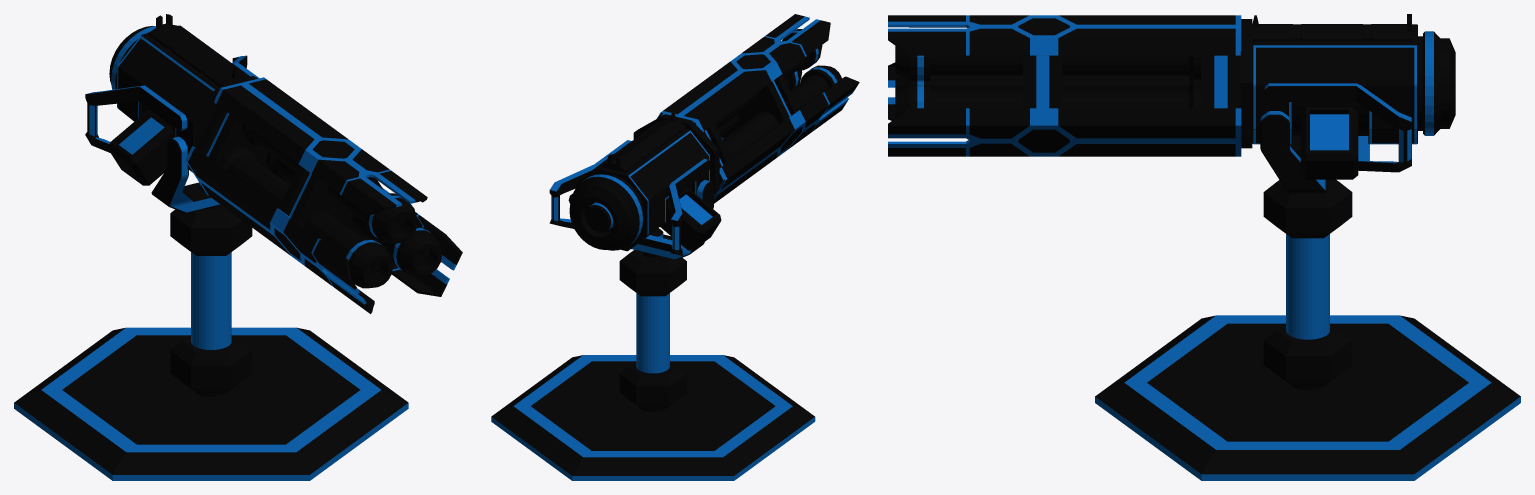
Rendered from Gun 1.fbx.
3 views of the same model, side by side, from view 1: azimuth 30°, elevation 25°; view 2: azimuth 150°, elevation 25°; view 3: azimuth 270°, elevation 25° (orthographic). The views are drawn at different scales.
Visible parts, largest first — view 1: Cylinder.002, Cylinder.001, Cylinder.003; view 2: Cylinder.002, Cylinder.001, Cylinder.003; view 3: Cylinder.002, Cylinder.001, Cylinder.003.
Boxes of the visible parts, left/top/right/bottom form: Cylinder.002: left=14, top=136, right=408, bottom=480; Cylinder.001: left=185, top=77, right=462, bottom=313; Cylinder.003: left=85, top=14, right=259, bottom=185; Cylinder.002: left=491, top=180, right=815, bottom=480; Cylinder.001: left=657, top=14, right=859, bottom=203; Cylinder.003: left=549, top=112, right=721, bottom=255; Cylinder.002: left=1095, top=111, right=1520, bottom=480; Cylinder.001: left=888, top=15, right=1241, bottom=156; Cylinder.003: left=1240, top=14, right=1455, bottom=179.
Bounding box in the file's own units: 361 × 419 × 620.
